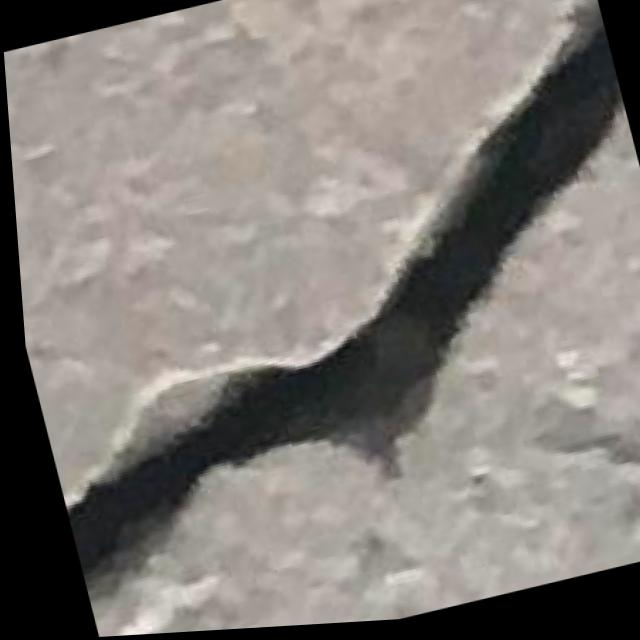Crack: (1, 0, 640, 593)
